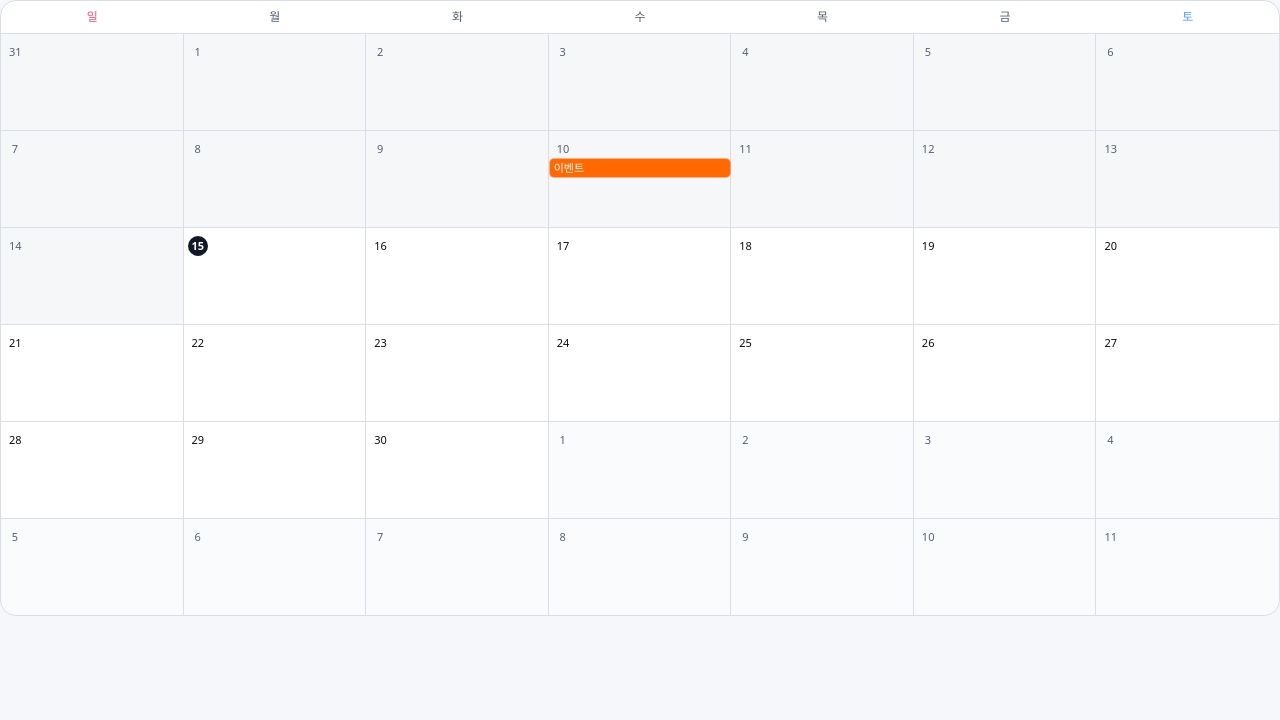
Scenario: CalendarMonth — 팝오버(D8) › renderDayDetail 미주입 시 기본 목록 렌더
Click the button named "2026-06-10" at (640, 179), box [549,131,731,227]
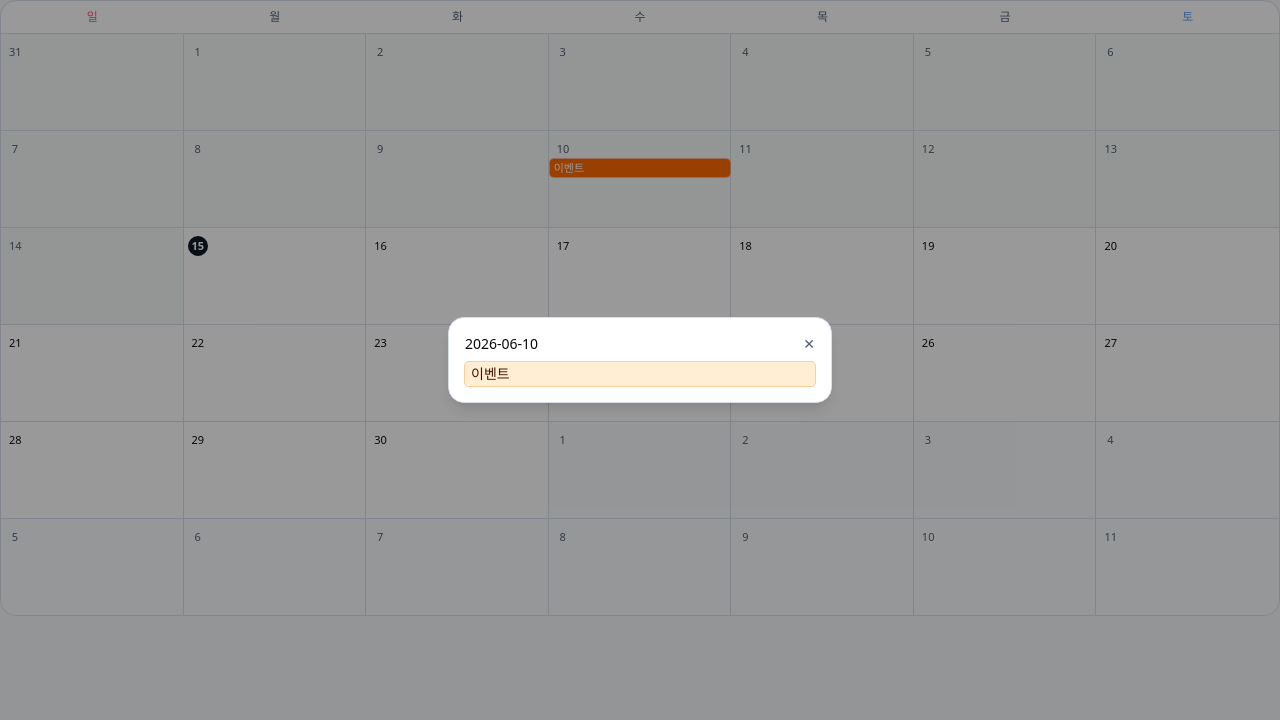
Result: the list item "이벤트" is shown at [465,362,815,386]
